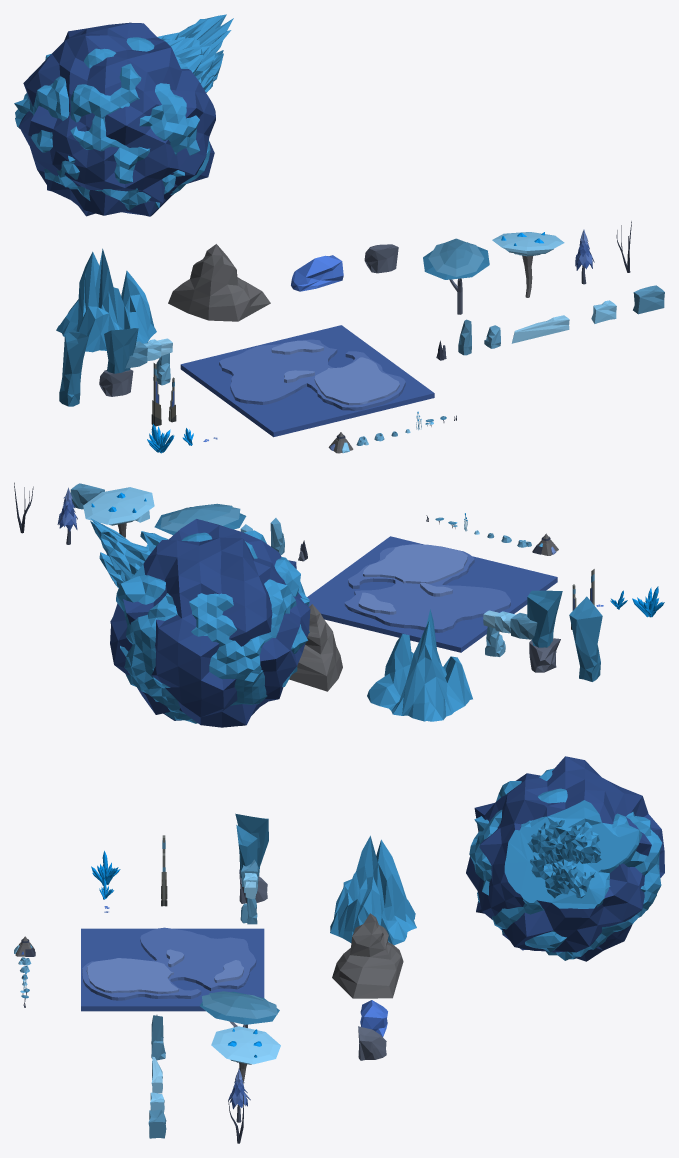
Rendered from Free Demo of Low Poly Space Alien Worlds 3D Asset Pack.fbx.
3 renders of one model, top to bottom at view 1: azimuth 30°, elevation 25°; view 2: azimuth 150°, elevation 25°; view 3: azimuth 270°, elevation 25°, orthographic. The views are drawn at different scales.
Visible parts, largest first — view 1: SP_Planet, SP_Ground01, SP_Ground02, SP_Mountain01, SP_Mountain02, SP_Rock08, SP_Ground05, SP_Tree01, SP_Rock07, SP_Tree02, SP_Mountain03, SP_Rock06 (+3 smaller); view 2: SP_Planet, SP_Ground01, SP_Mountain01, SP_Ground02, SP_Rock08, SP_Ground05, SP_Mountain02, SP_Tree02, SP_Rock07, SP_Tree01, SP_Tree03, SP_Rock05 (+3 smaller); view 3: SP_Planet, SP_Ground01, SP_Ground02, SP_Mountain01, SP_Mountain02, SP_Ground05, SP_Tree02, SP_Tree01, SP_Rock08, SP_Rock07, SP_Rock06, SP_Mountain03.
Boxes of the visible parts, left/top/right/bottom form: SP_Planet: left=14, top=14, right=233, bottom=216; SP_Ground01: left=180, top=325, right=434, bottom=437; SP_Ground02: left=219, top=339, right=405, bottom=410; SP_Mountain01: left=56, top=248, right=156, bottom=352; SP_Mountain02: left=168, top=244, right=270, bottom=321; SP_Rock08: left=99, top=328, right=172, bottom=396; SP_Ground05: left=314, top=357, right=399, bottom=405; SP_Tree01: left=423, top=238, right=489, bottom=314; SP_Rock07: left=59, top=330, right=88, bottom=406; SP_Tree02: left=492, top=232, right=564, bottom=297; SP_Mountain03: left=291, top=255, right=343, bottom=291; SP_Rock06: left=364, top=244, right=398, bottom=273; SP_Planet: left=90, top=518, right=310, bottom=727; SP_Ground01: left=307, top=536, right=557, bottom=652; SP_Mountain01: left=367, top=609, right=472, bottom=721; SP_Ground02: left=344, top=546, right=510, bottom=632; SP_Rock08: left=483, top=590, right=562, bottom=672; SP_Ground05: left=363, top=544, right=467, bottom=583; SP_Mountain02: left=289, top=604, right=342, bottom=691; SP_Tree02: left=83, top=487, right=154, bottom=537; SP_Rock07: left=569, top=596, right=602, bottom=681; SP_Tree01: left=154, top=503, right=246, bottom=535; SP_Tree03: left=57, top=487, right=77, bottom=544; SP_Rock05: left=70, top=483, right=104, bottom=509; SP_Planet: left=466, top=756, right=664, bottom=961; SP_Ground01: left=81, top=928, right=264, bottom=1011; SP_Ground02: left=82, top=927, right=256, bottom=1000; SP_Mountain01: left=330, top=835, right=416, bottom=945; SP_Mountain02: left=332, top=913, right=403, bottom=998; SP_Ground05: left=86, top=958, right=178, bottom=993; SP_Tree02: left=211, top=1026, right=280, bottom=1083; SP_Tree01: left=199, top=991, right=279, bottom=1062; SP_Rock08: left=236, top=825, right=267, bottom=924; SP_Rock07: left=235, top=813, right=268, bottom=875; SP_Rock06: left=358, top=1026, right=386, bottom=1060; SP_Mountain03: left=360, top=1000, right=387, bottom=1036.
Bounding box in the file's own units: 3510 × 1232 × 3546.
1 material, 1 textured.
